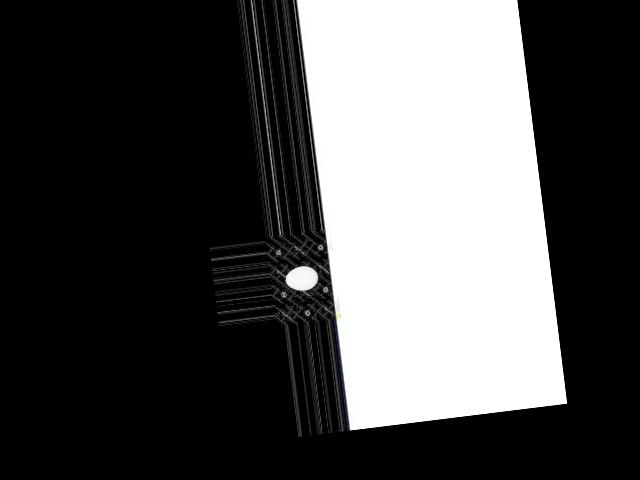egg: (284, 263, 319, 291)
